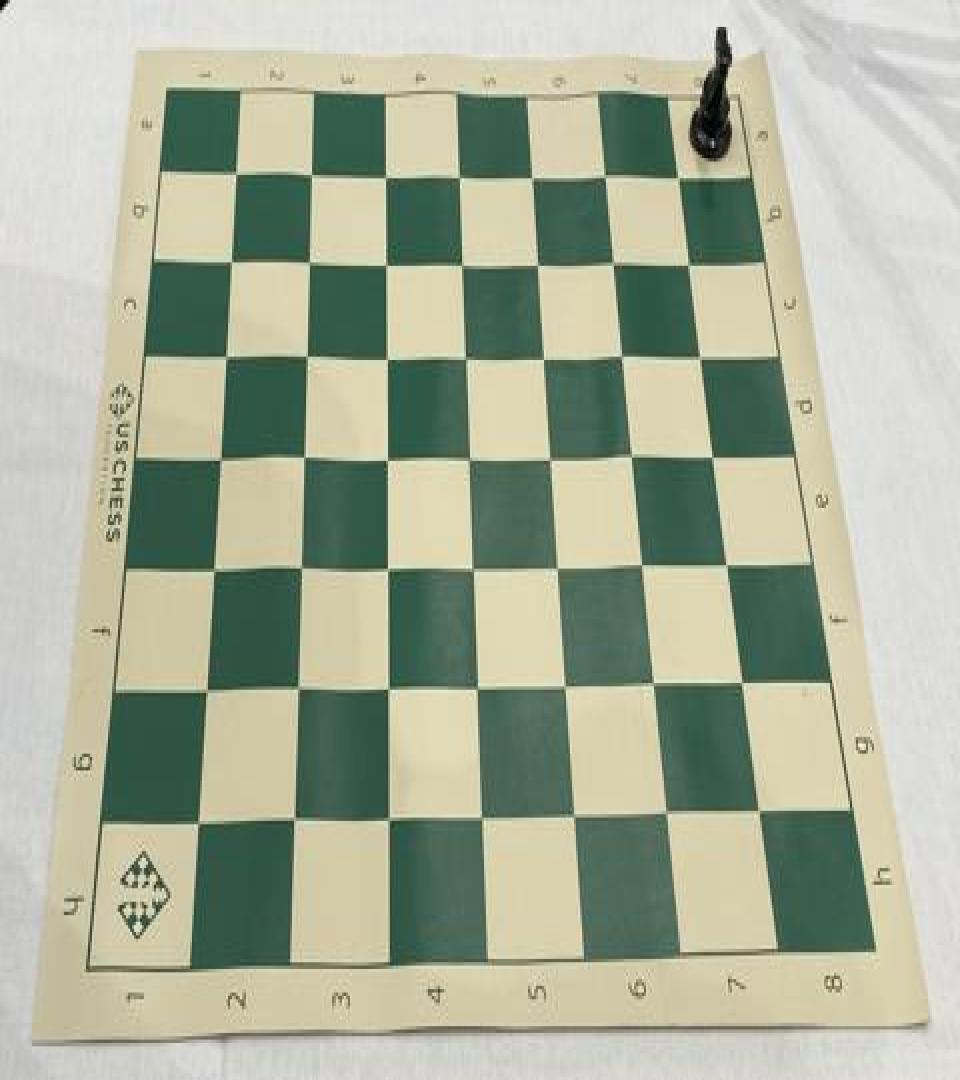xcorner: (594, 156, 616, 194), (521, 156, 543, 194), (447, 156, 469, 194), (373, 156, 395, 194), (299, 156, 321, 194), (224, 156, 246, 194), (717, 546, 739, 584), (632, 546, 654, 584), (546, 546, 568, 584), (460, 548, 482, 586), (374, 548, 396, 586), (732, 664, 754, 702), (643, 664, 665, 702), (184, 802, 206, 840), (667, 158, 689, 195), (678, 244, 700, 281), (602, 244, 624, 281), (526, 244, 548, 281), (450, 244, 472, 281), (373, 244, 395, 281), (296, 244, 318, 281), (219, 244, 241, 281), (690, 337, 712, 374), (611, 337, 633, 374), (532, 337, 554, 374), (453, 338, 475, 375), (373, 338, 395, 375), (293, 338, 315, 375), (213, 338, 235, 375), (457, 439, 479, 476), (374, 439, 396, 476), (290, 439, 312, 476), (207, 441, 229, 478), (287, 550, 309, 587), (200, 550, 222, 587), (554, 666, 576, 703), (464, 668, 486, 705), (374, 668, 396, 705), (193, 671, 215, 708), (748, 792, 770, 829), (655, 794, 677, 831), (374, 799, 396, 836), (280, 801, 302, 838), (703, 438, 725, 474), (621, 438, 643, 474), (539, 438, 561, 474), (284, 670, 306, 706), (562, 796, 584, 832), (469, 798, 491, 834)
